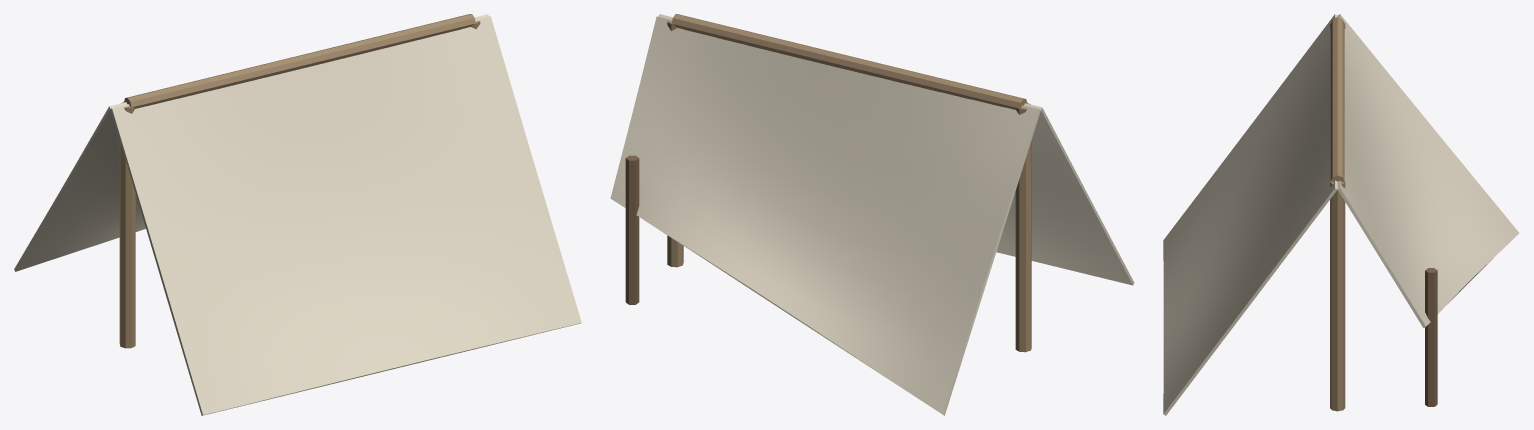
File: tent_b.glb
The picture shows the model from 3 angles, left to right: view 1: azimuth 30°, elevation 25°; view 2: azimuth 150°, elevation 25°; view 3: azimuth 270°, elevation 25°; orthographic projection. The views are drawn at different scales.
Parts seen in each view (by area): view 1: tent_b; view 2: tent_b; view 3: tent_b.
Part boxes in pixels (x1,y1,x2,y2): tent_b: (14,14,581,415); tent_b: (610,14,1134,415); tent_b: (1163,14,1519,415).
Size of the model in its own units: 2.64 by 1.65 by 2.28.
